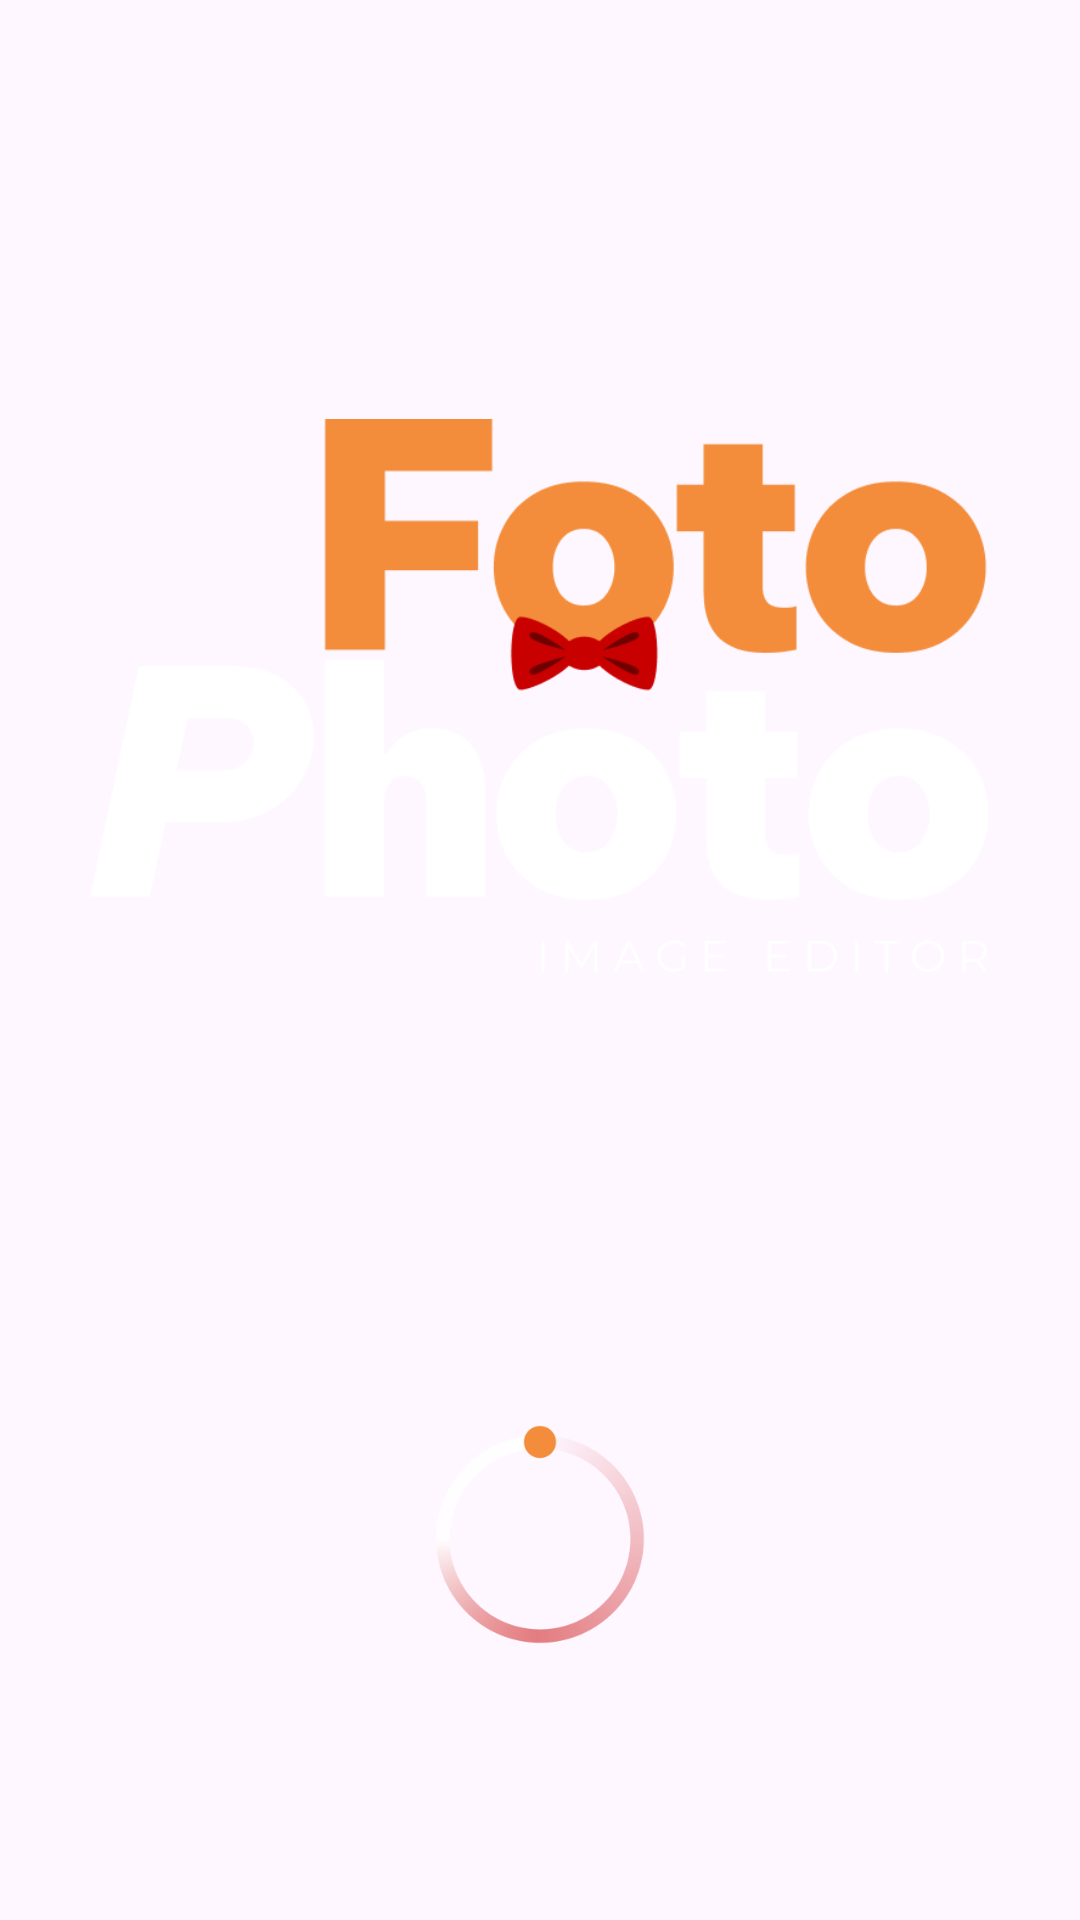

Named icons in this screenshot (1080×1920) and their bounding boxes, (x1, y1, x2, y2):
spinner: (439, 1426, 644, 1643)
